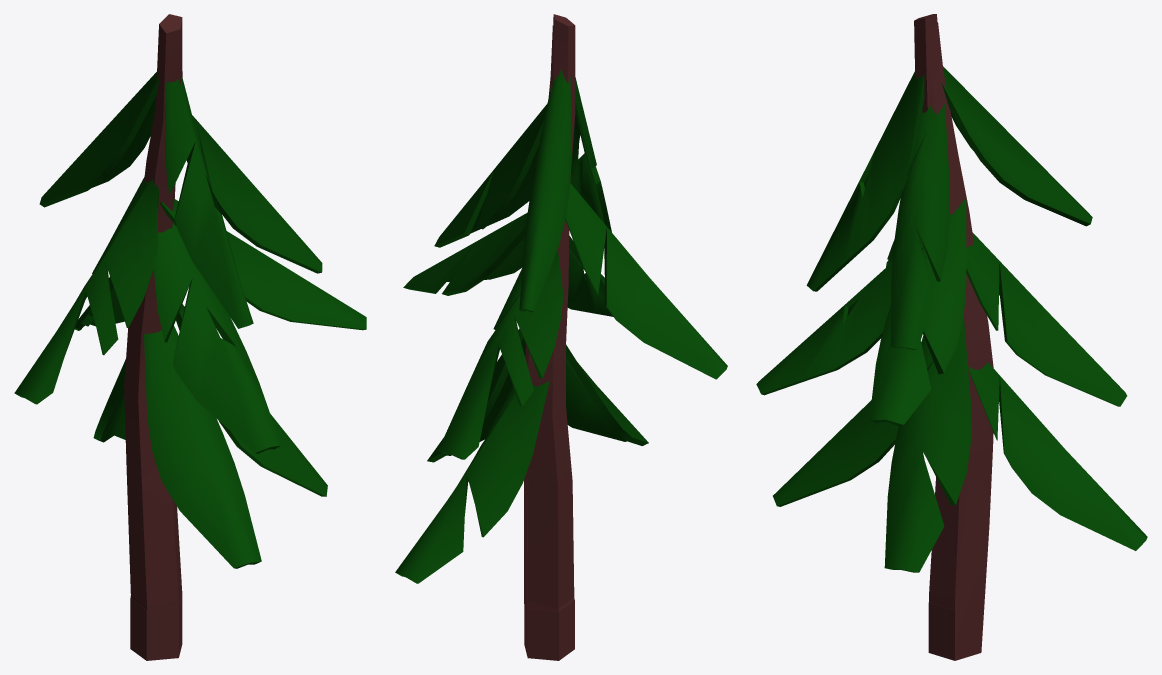
File: TreewithLeaves.fbx
3 renders of one model, left to right at view 1: azimuth 30°, elevation 25°; view 2: azimuth 150°, elevation 25°; view 3: azimuth 270°, elevation 25°, orthographic. The views are drawn at different scales.
Visible parts, largest first — view 1: TreeWithLeaves; view 2: TreeWithLeaves; view 3: TreeWithLeaves.
Part boxes in pixels (box(x1,y1,x2,y2)): TreeWithLeaves: box(14, 14, 366, 660); TreeWithLeaves: box(395, 14, 727, 660); TreeWithLeaves: box(756, 14, 1147, 660).
Bounding box in the file's own units: 3.44 × 6.31 × 3.52.
